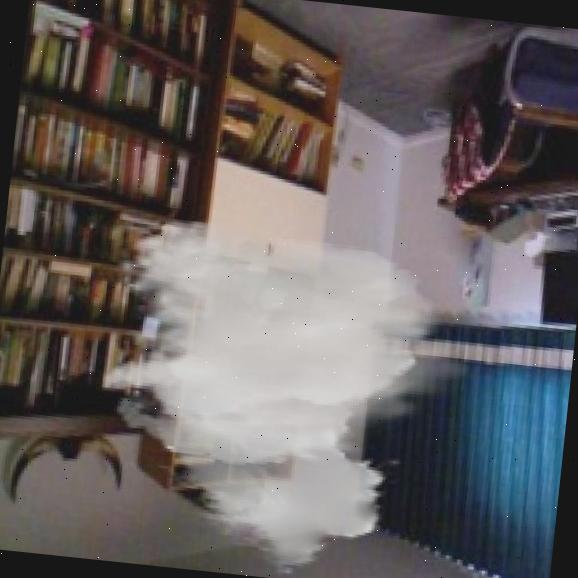smoke: (81, 211, 489, 578)
